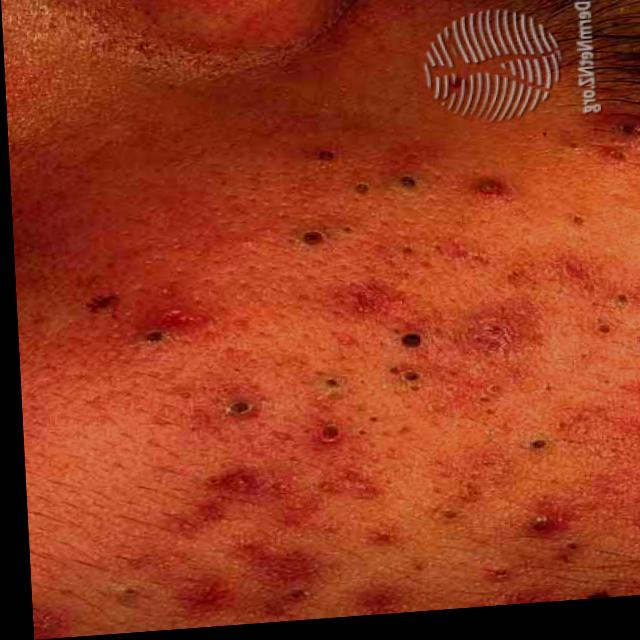dark spot: (280, 229, 334, 261), (214, 395, 257, 432), (307, 423, 344, 461), (386, 334, 427, 364), (515, 437, 550, 469), (309, 148, 350, 170), (393, 175, 424, 201), (126, 326, 162, 348)
